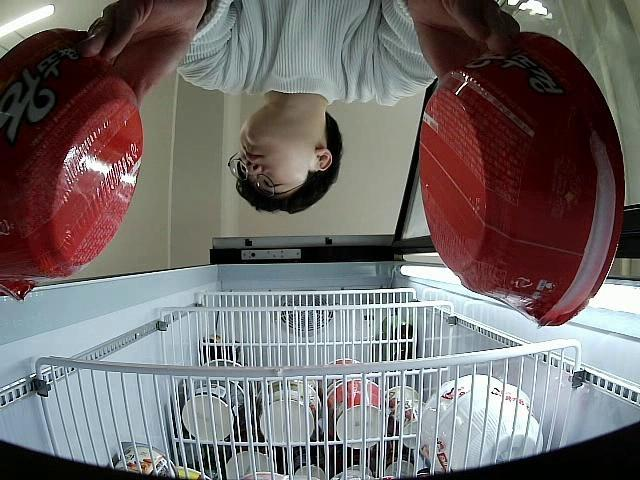10_wangTtukkeong: (420, 32, 627, 327), (0, 28, 145, 302)
